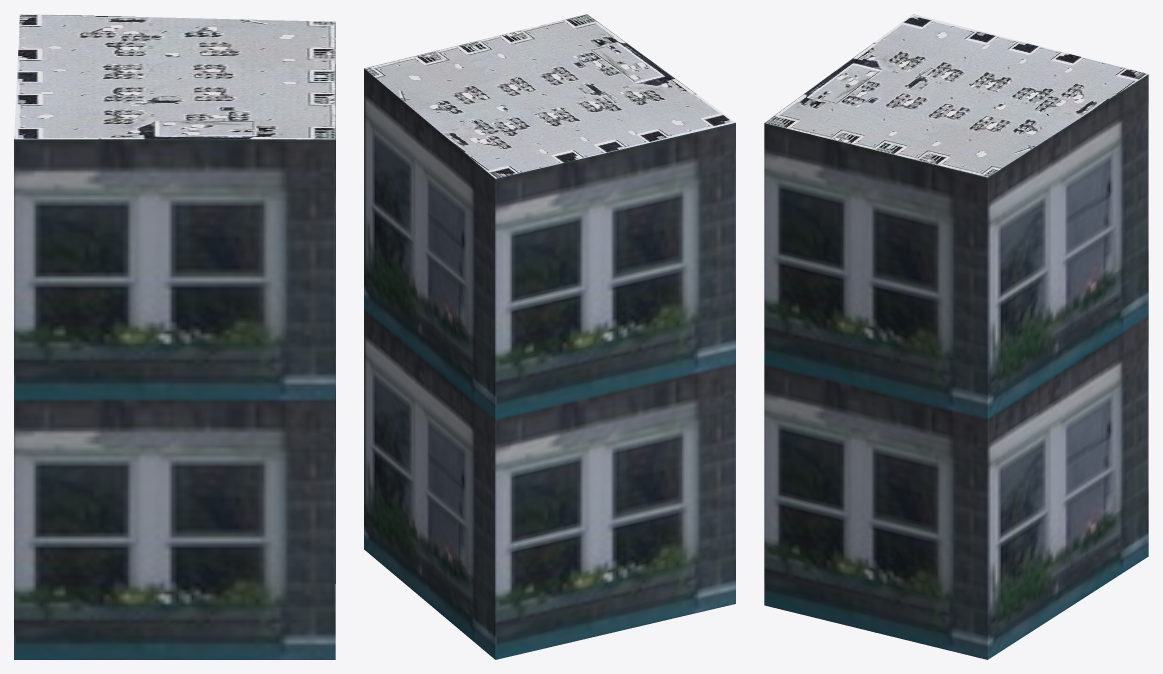
Rendered from ResTex__795.fbx.
The picture shows the model from 3 angles, left to right: view 1: azimuth 30°, elevation 25°; view 2: azimuth 150°, elevation 25°; view 3: azimuth 270°, elevation 25°; orthographic projection. The views are drawn at different scales.
Parts seen in each view (by area): view 1: CityEngineMaterial_11_m, CityEngineMaterial_4_m; view 2: CityEngineMaterial_11_m, CityEngineMaterial_4_m; view 3: CityEngineMaterial_11_m, CityEngineMaterial_4_m.
Part boxes in pixels (x1=…): CityEngineMaterial_11_m: x1=14, y1=64, x2=335, y2=659; CityEngineMaterial_4_m: x1=14, y1=14, x2=335, y2=139; CityEngineMaterial_11_m: x1=364, y1=68, x2=735, y2=659; CityEngineMaterial_4_m: x1=364, y1=14, x2=735, y2=178; CityEngineMaterial_11_m: x1=764, y1=74, x2=1148, y2=659; CityEngineMaterial_4_m: x1=764, y1=14, x2=1148, y2=177.
Bounding box in the file's own units: 4.37 × 6 × 4.34.
2 materials, 2 textured.
